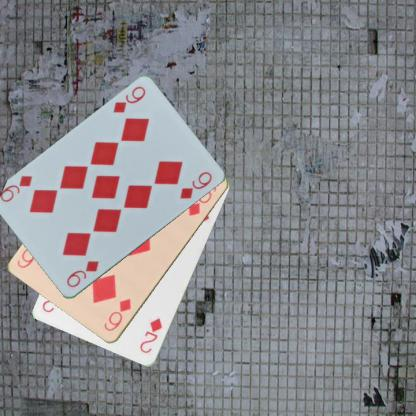2d: (137, 315, 163, 355)
6d: (101, 296, 133, 333)
9d: (64, 258, 100, 290), (110, 84, 147, 115)
